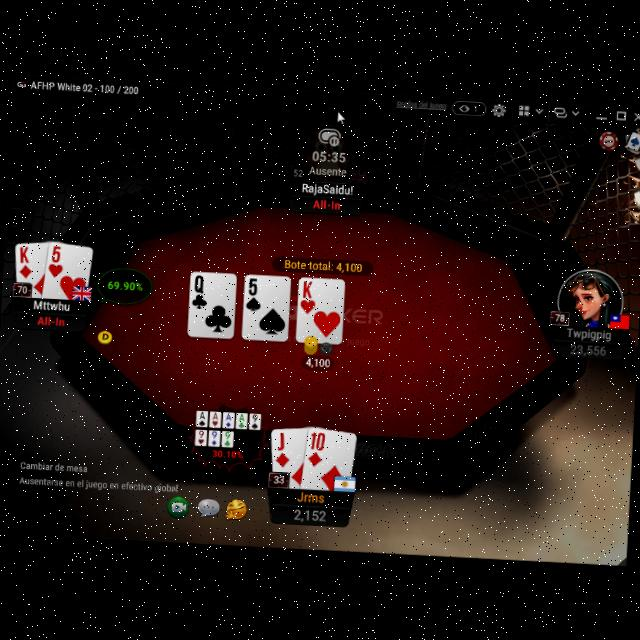5d: (46, 242, 65, 280)
5s: (244, 274, 265, 312)
Jd: (274, 428, 294, 467)
Kd: (17, 243, 36, 278)
Kh: (299, 277, 318, 314)
Qc: (191, 272, 210, 310)
Td: (306, 427, 328, 468)
all_in_symbol: (312, 196, 342, 210), (36, 312, 66, 326)
bet_text: (305, 354, 333, 368)
dealer: (96, 326, 114, 344)
pot_text: (286, 256, 364, 272)
stack_text: (292, 504, 328, 523), (568, 341, 608, 357)
